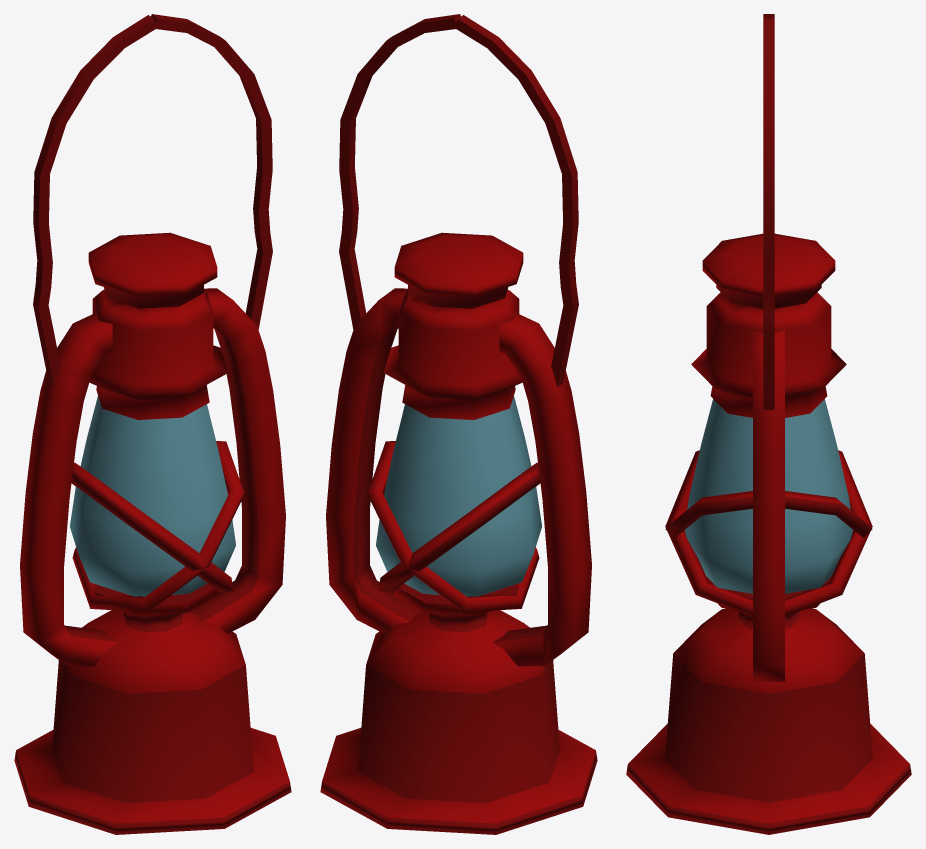
The model's file is OilLamp.glb.
3 views of the same model, side by side, from view 1: azimuth 30°, elevation 25°; view 2: azimuth 150°, elevation 25°; view 3: azimuth 270°, elevation 25° (orthographic).
Parts seen in each view (by area): view 1: OilLamp; view 2: OilLamp; view 3: OilLamp.
Boxes of the visible parts, <box> form: OilLamp: <box>14,14,291,834</box>; OilLamp: <box>320,14,597,834</box>; OilLamp: <box>626,14,911,834</box>.
Size of the model in its own units: 7.91 by 22.96 by 7.86.
